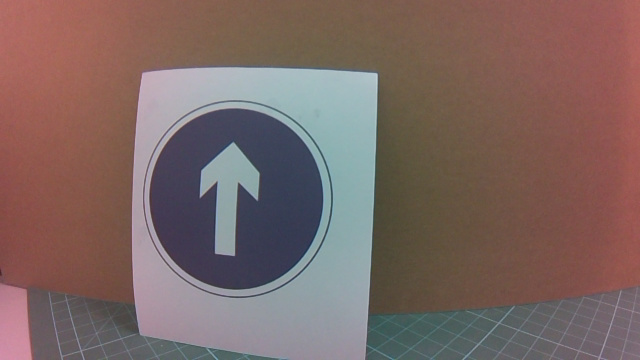forward: (155, 92, 338, 298)
